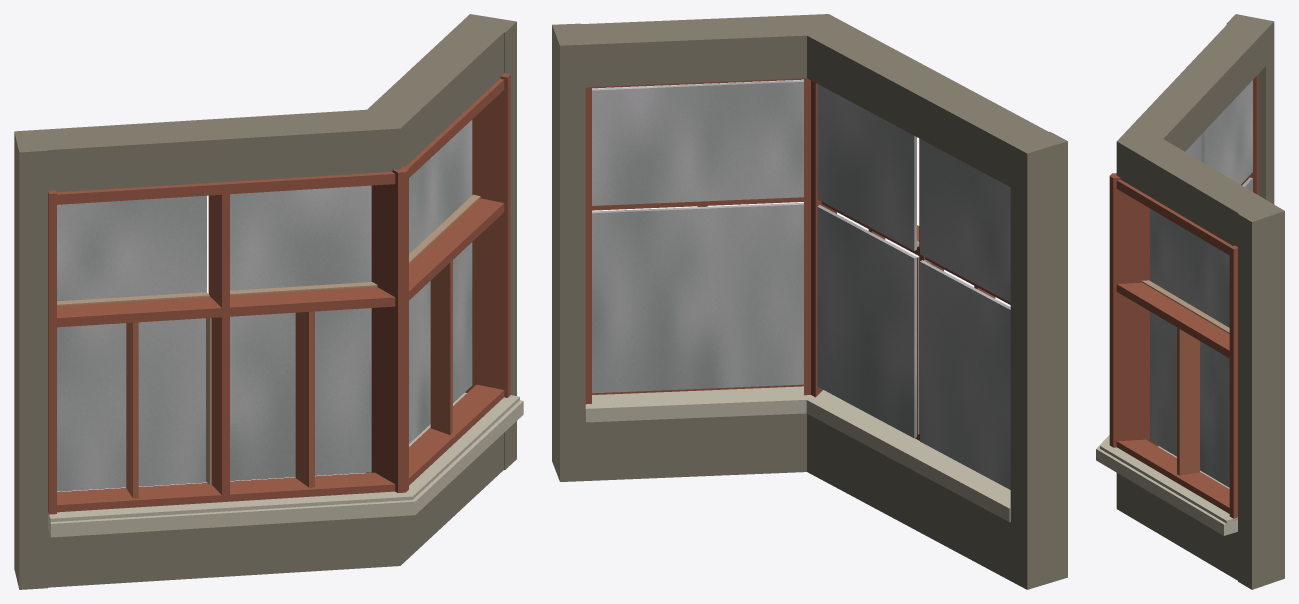
Rendered from hang-residence-red-corner-sashes-near.glb.
3 views of the same model, side by side, from view 1: azimuth 30°, elevation 25°; view 2: azimuth 150°, elevation 25°; view 3: azimuth 270°, elevation 25° (orthographic). The views are drawn at different scales.
Visible parts, largest first — view 1: 杭氏住宅舟山路455号上层转角红框窗; view 2: 杭氏住宅舟山路455号上层转角红框窗; view 3: 杭氏住宅舟山路455号上层转角红框窗.
Part boxes in pixels (x1,y1,x2,y2): 杭氏住宅舟山路455号上层转角红框窗: (14,14,523,589); 杭氏住宅舟山路455号上层转角红框窗: (552,14,1067,589); 杭氏住宅舟山路455号上层转角红框窗: (1096,14,1284,589).
Bounding box in the file's own units: 2.61 × 2.15 × 1.
Materials: 6 (1 with a texture image).
